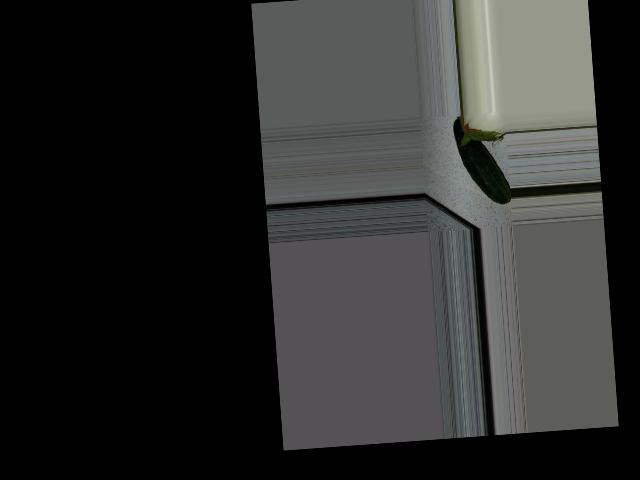cucumber: (453, 113, 512, 207)
